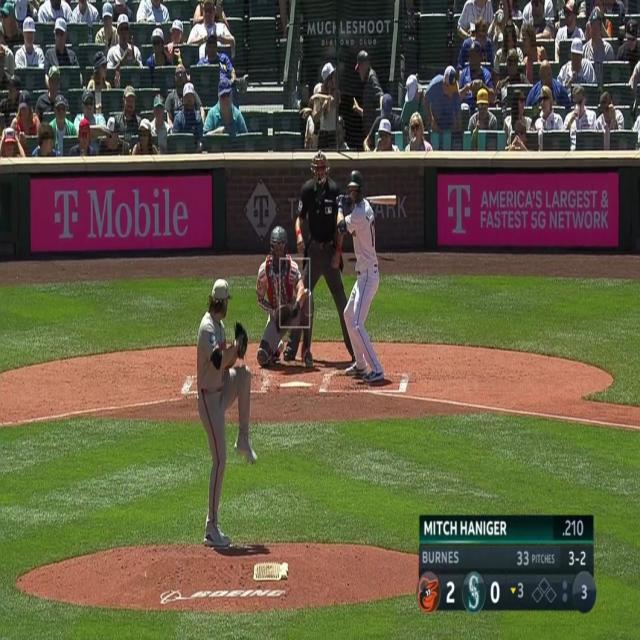Player: (180, 278, 287, 559)
